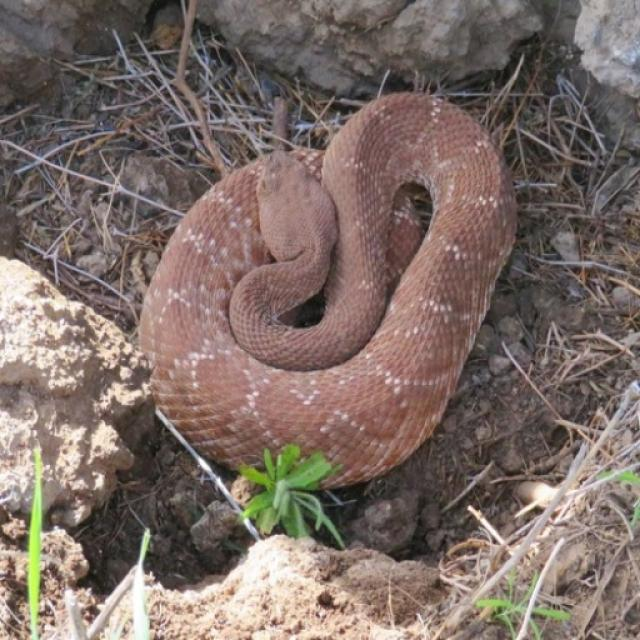snake: (112, 58, 544, 492)
